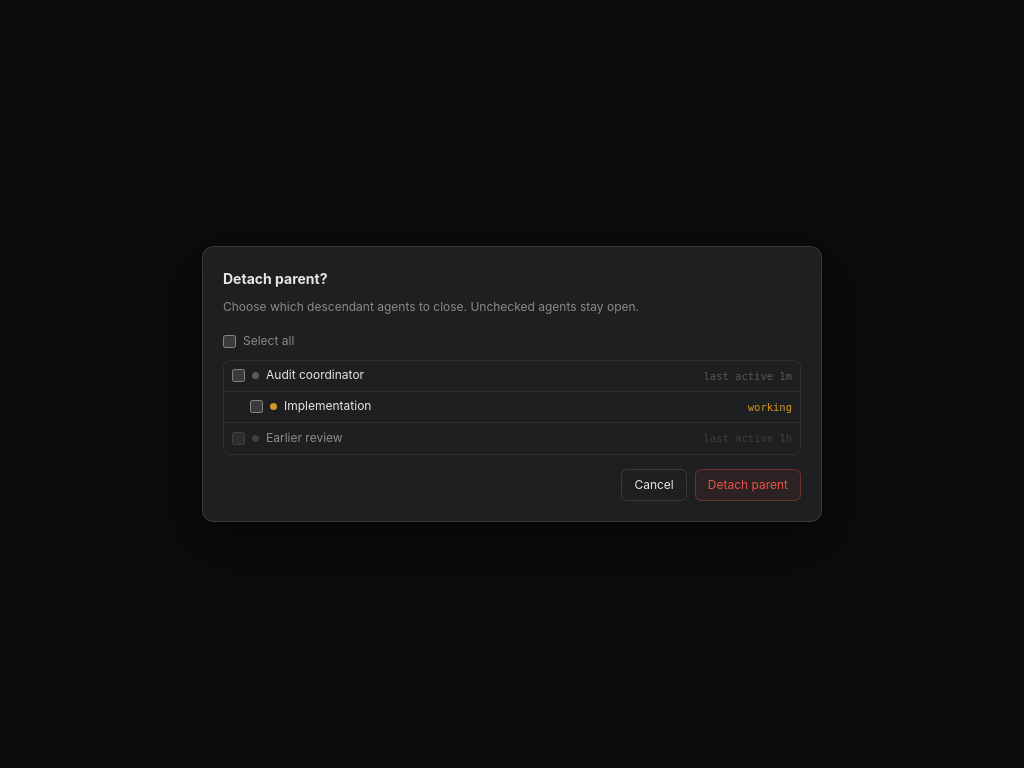
DescendantCloseDialog › selects all closable agents and maintains the indeterminate state
The width and height of the screenshot is (1024, 768).
Click the checkbox named "Close Audit coordinator" at x=238, y=376, box [232,369,245,382]
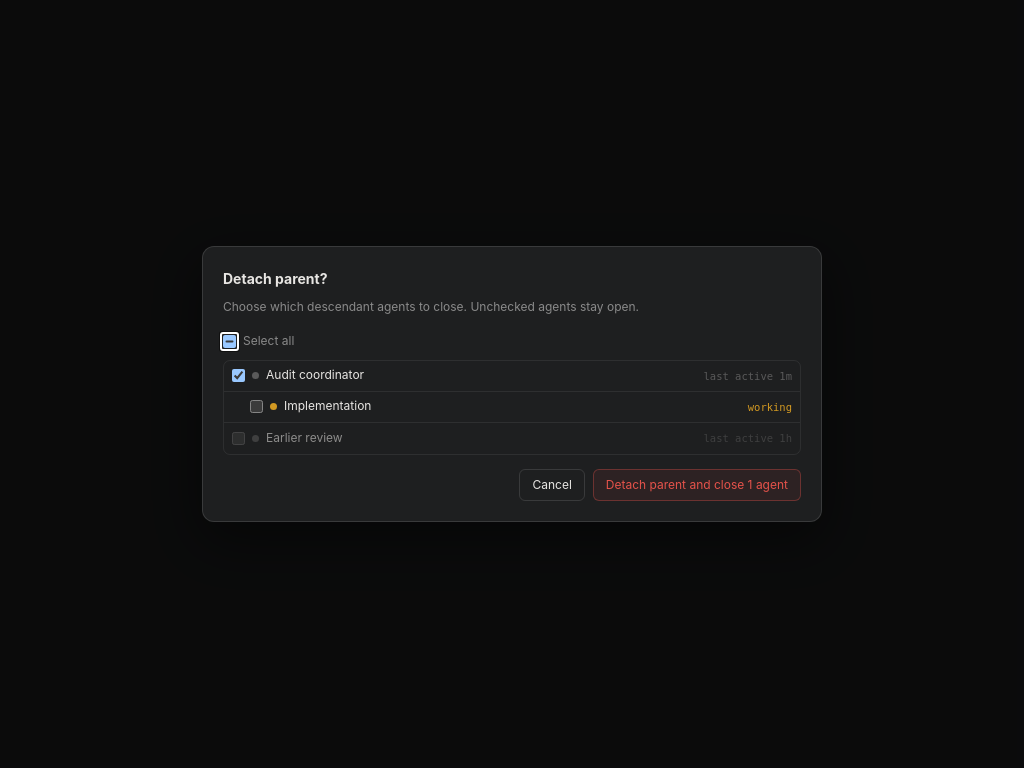
Click the checkbox named "Select all closable agents" at x=230, y=341, box [223,335,236,348]
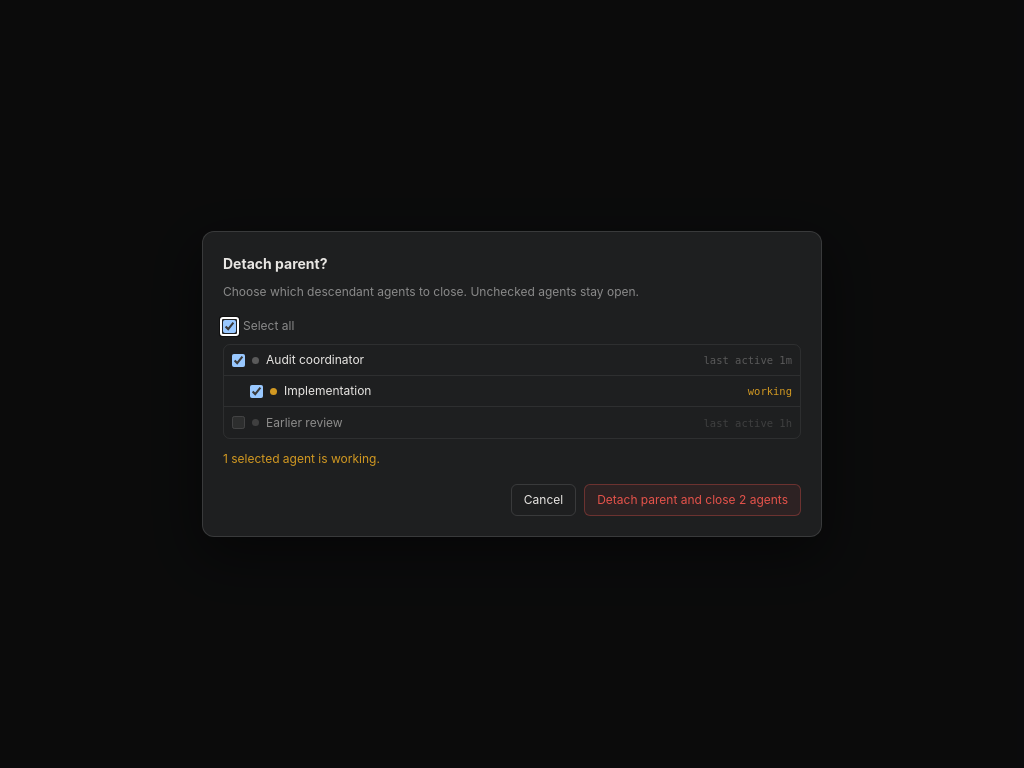
expect the checkbox named "Close Audit coordinator" is checked: met, box [232,354,245,367]
expect the checkbox named "Select all closable agents" is checked: met, box [223,320,236,333]
expect the checkbox named "Close Implementation" is checked: met, box [250,385,263,398]
